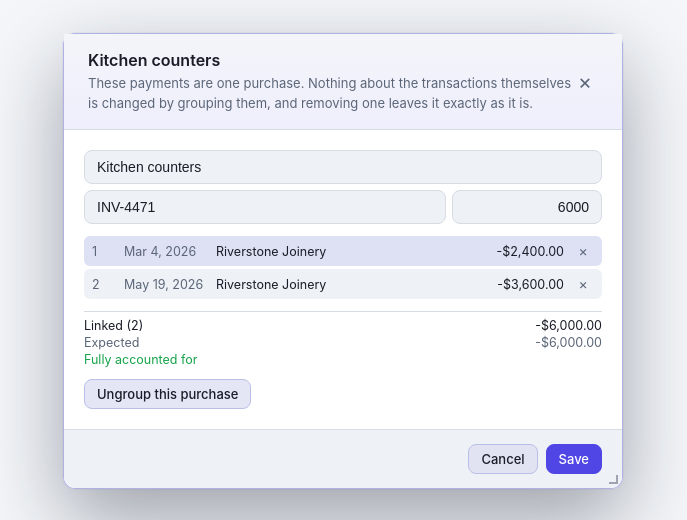
Test: what it shows › recomputes the gap against the total being typed, not the saved one
The width and height of the screenshot is (687, 520).
Expected: the text "Kitchen counters" is shown, left=88, top=50, right=220, bottom=70
Expected: the text "Fully accounted for" is shown, left=84, top=352, right=198, bottom=367
Step 1. Replace the text in the field named "Expected total" with "6500" → (527, 207), box left=452, top=190, right=602, bottom=224
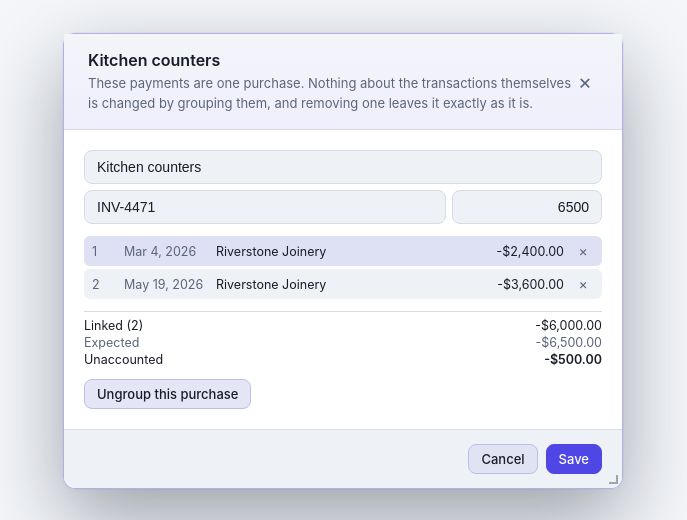
Result: the text "Unaccounted" is shown at left=84, top=352, right=163, bottom=367
